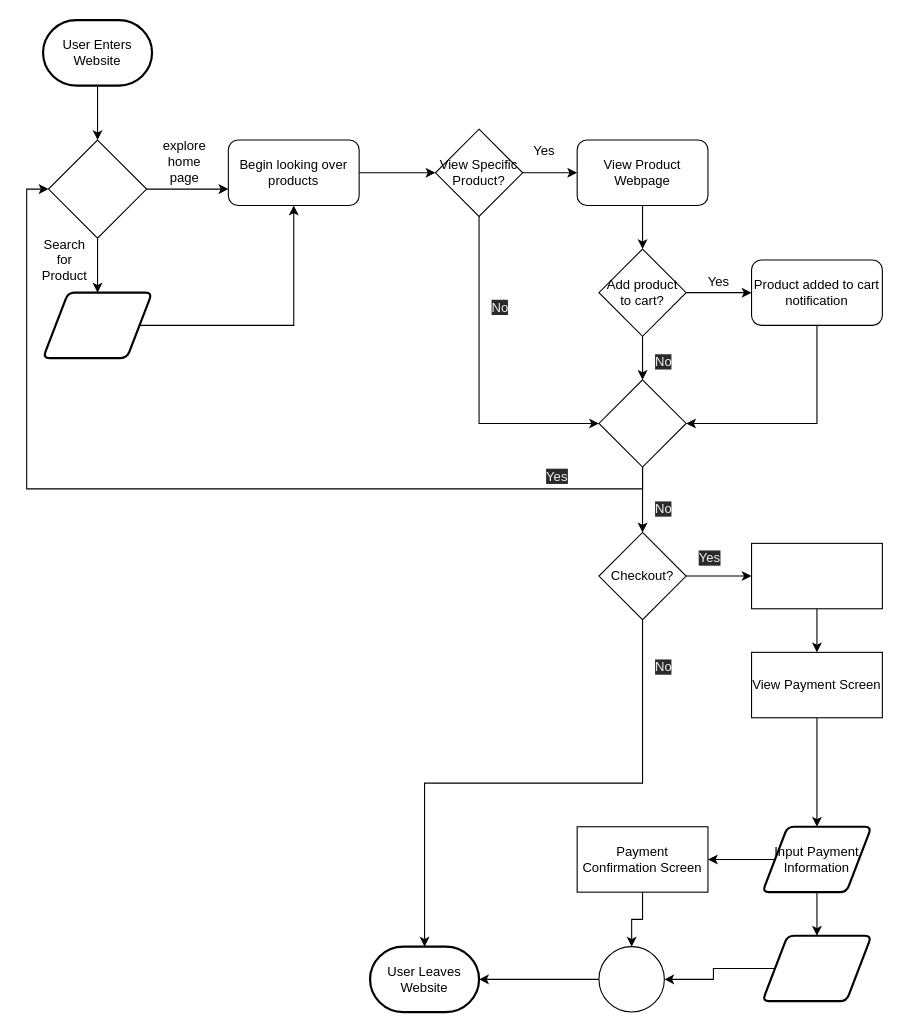
Image size: 901x1031. Some labels were removed from this diagram. Here are the shapes that lost their labels. From the top down, the centre of each, then its label:
At point 97,188: "Search for product or explore home page".
At point 97,325: "Search input".
At point 642,423: "Continue Shopping?".
At point 816,575: "View Cart Screen".
At point 816,968: "Confirmation Email Sent".
